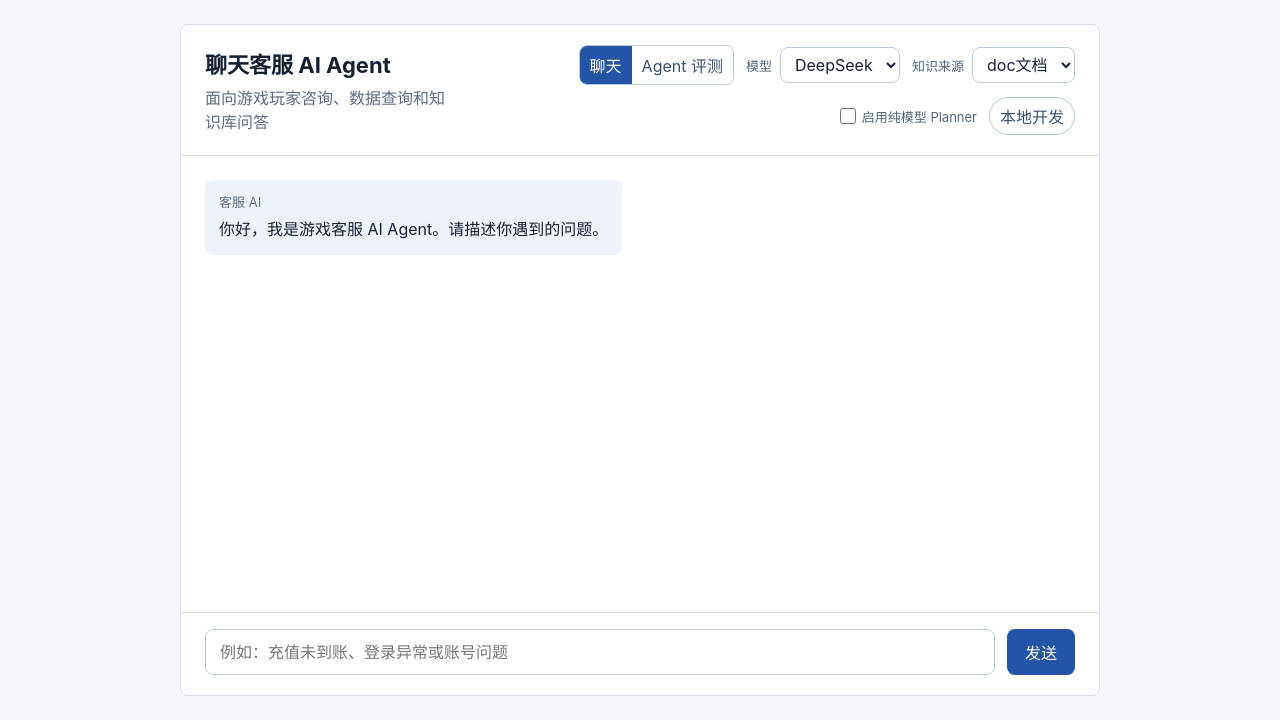
it: App › renders tables returned by the stream done event
The image size is (1280, 720).
Type "杭州景点用表格显示" into the field named "输入玩家问题".
click(600, 652); type("杭州景点用表格显示")  # box [205,629,995,675]
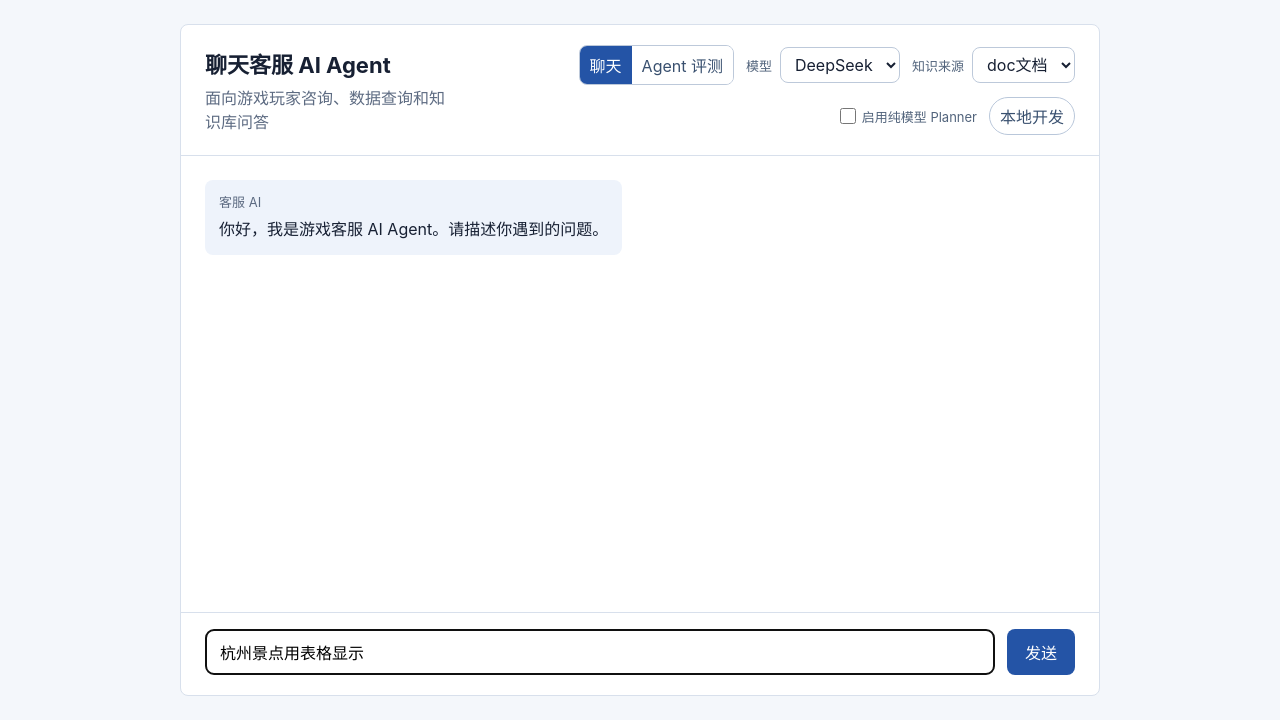
Click the button "发送".
click(1041, 652)  # box [1007,629,1075,675]
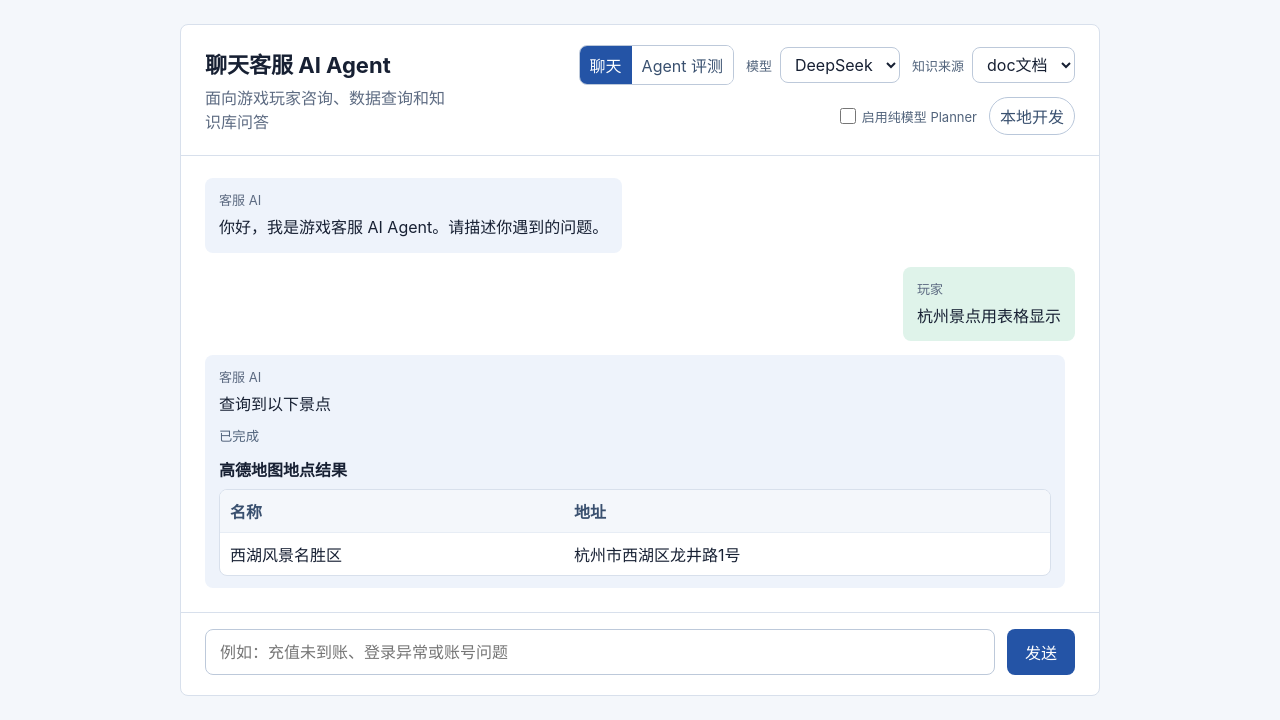
expect the text "高德地图地点结果" is shown: met, box [219,460,347,480]
expect the column heading "名称" is shown: met, box [220,490,564,532]
expect the cell "西湖风景名胜区" is shown: met, box [220,532,564,575]
